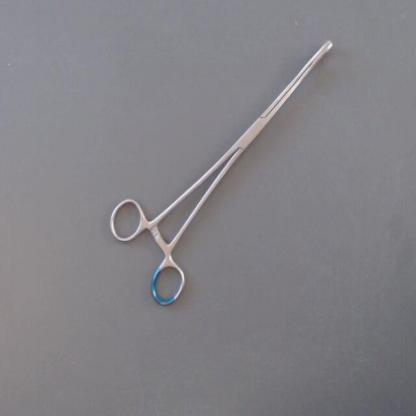Sponge Forceps: (98, 31, 346, 316)
